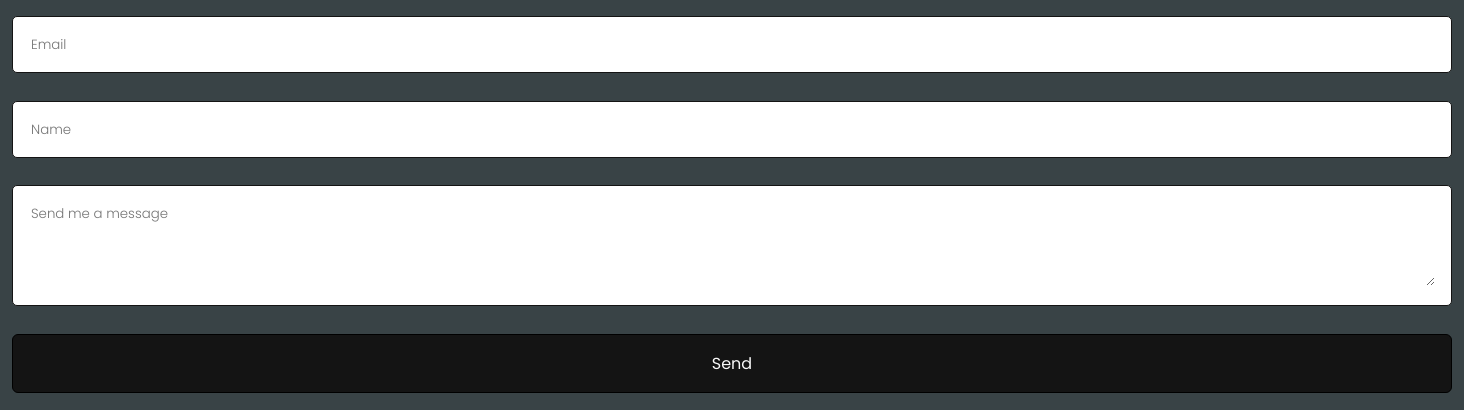
Scenario: ContactForm › shows validation error for invalid email
Type "invalid-email" into the field with placeholder "Email" at {"x": 732, "y": 45}, box [29,34,1435,56]
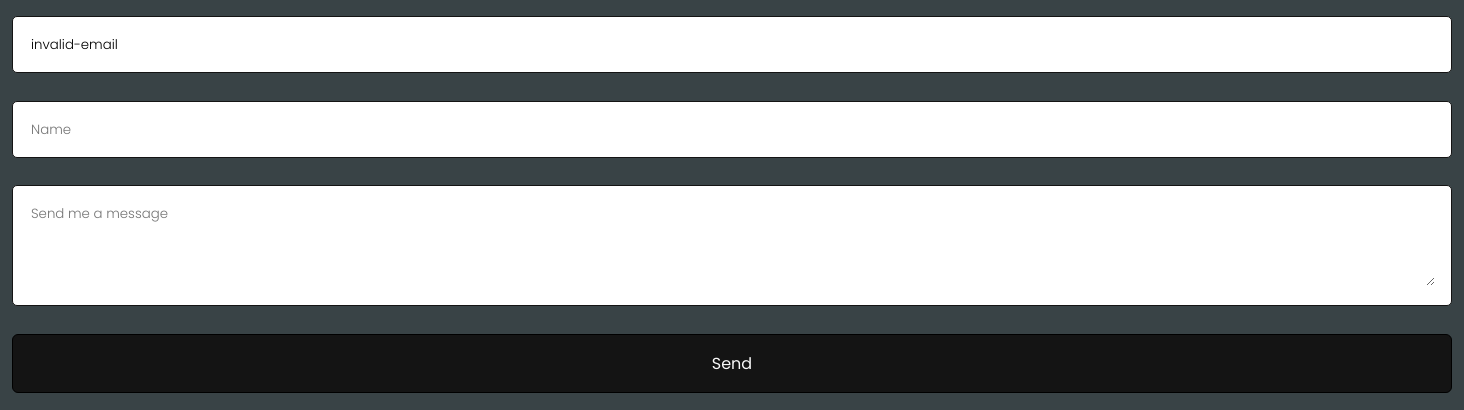
Click the button "Send" at {"x": 732, "y": 363}, box [12,334,1452,393]
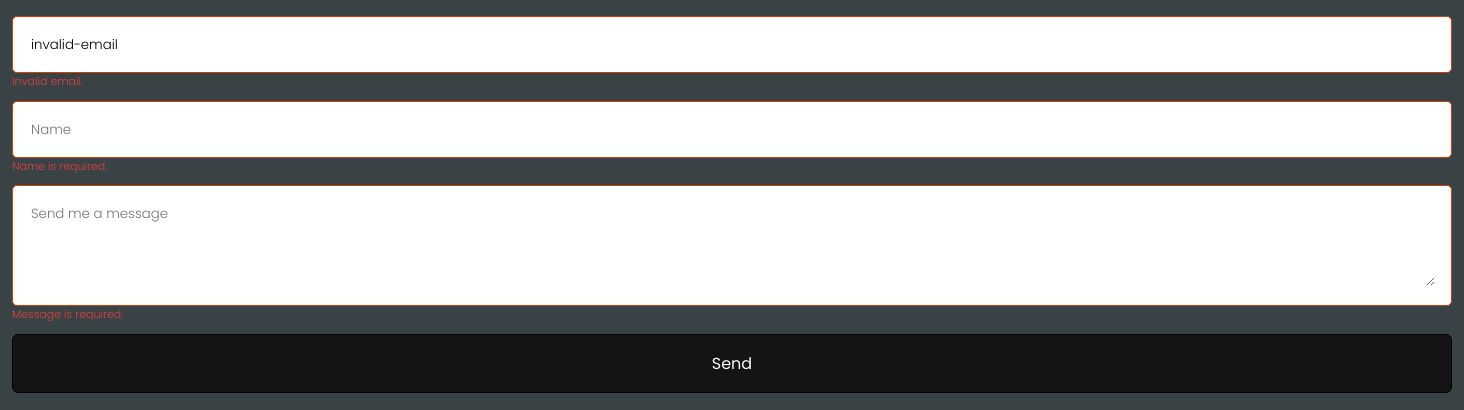
Check: the text "Invalid email." is shown, box [12,73,83,89]
